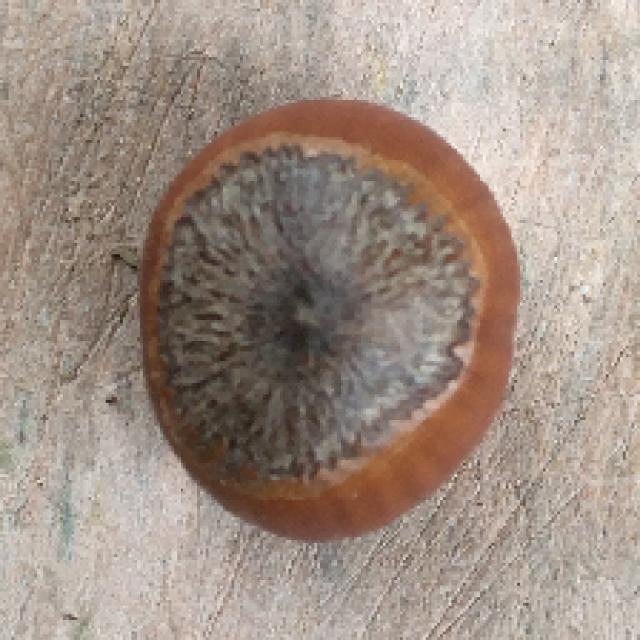damagedHazelnut: (118, 93, 524, 545)
